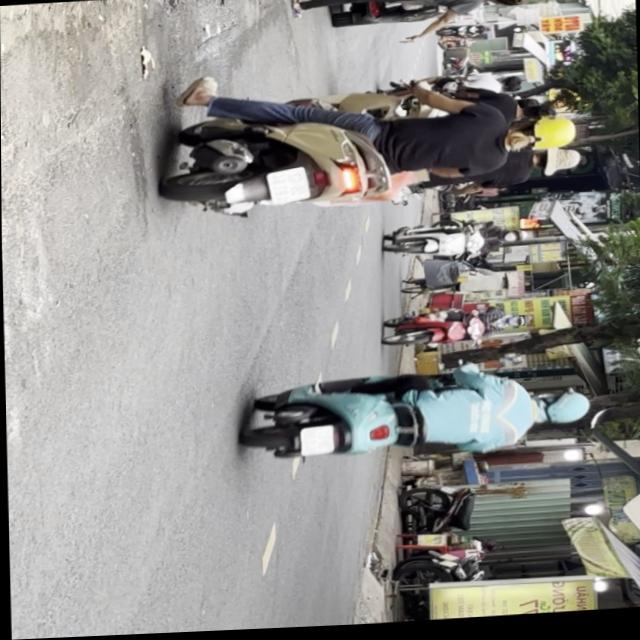helmet: (507, 118, 576, 158), (532, 393, 592, 432), (504, 319, 533, 333)
licenseplate: (155, 72, 583, 224), (233, 362, 593, 473), (378, 307, 535, 355)
nohelmet: (266, 170, 309, 207), (300, 429, 334, 460)
